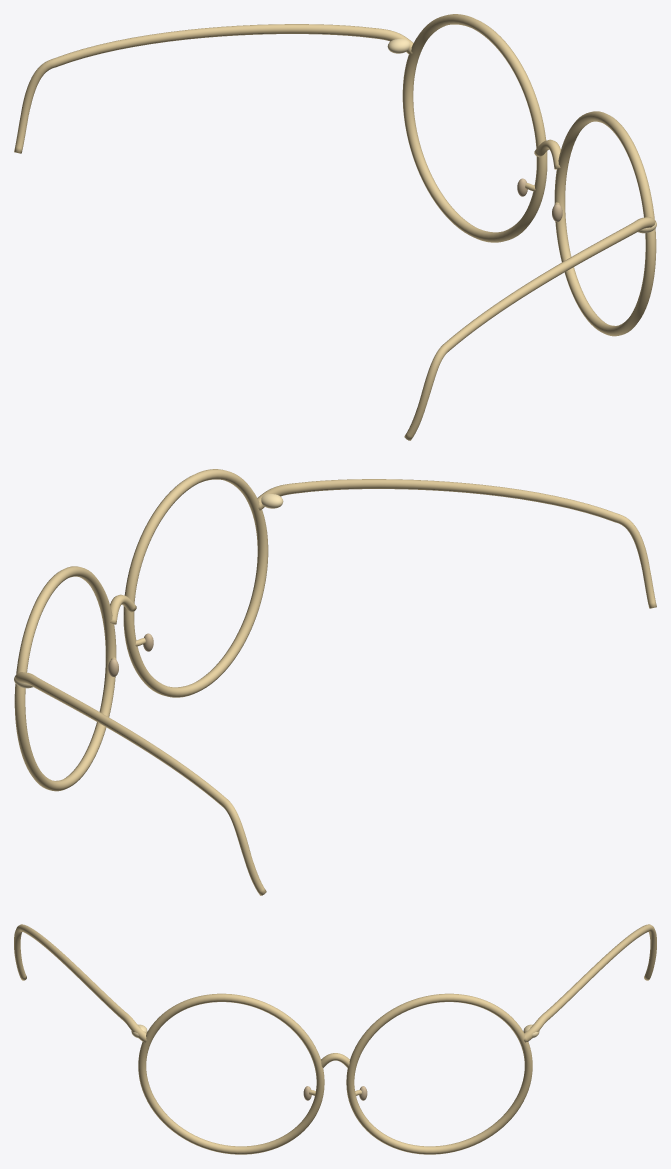
The model's file is side_oharu_round_gold_glasses.glb.
3 renders of one model, top to bottom at view 1: azimuth 30°, elevation 25°; view 2: azimuth 150°, elevation 25°; view 3: azimuth 270°, elevation 25°, orthographic. The views are drawn at different scales.
Visible parts, largest first — view 1: warm_gold; view 2: warm_gold; view 3: warm_gold.
Part boxes in pixels (x1,y1,x2,y2): warm_gold: [14, 14, 656, 440]; warm_gold: [14, 469, 656, 895]; warm_gold: [14, 924, 656, 1154].
Bounding box in the file's own units: 7.99 × 4.52 × 16.
